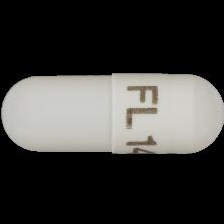69189-1202: (0, 0, 224, 224)
